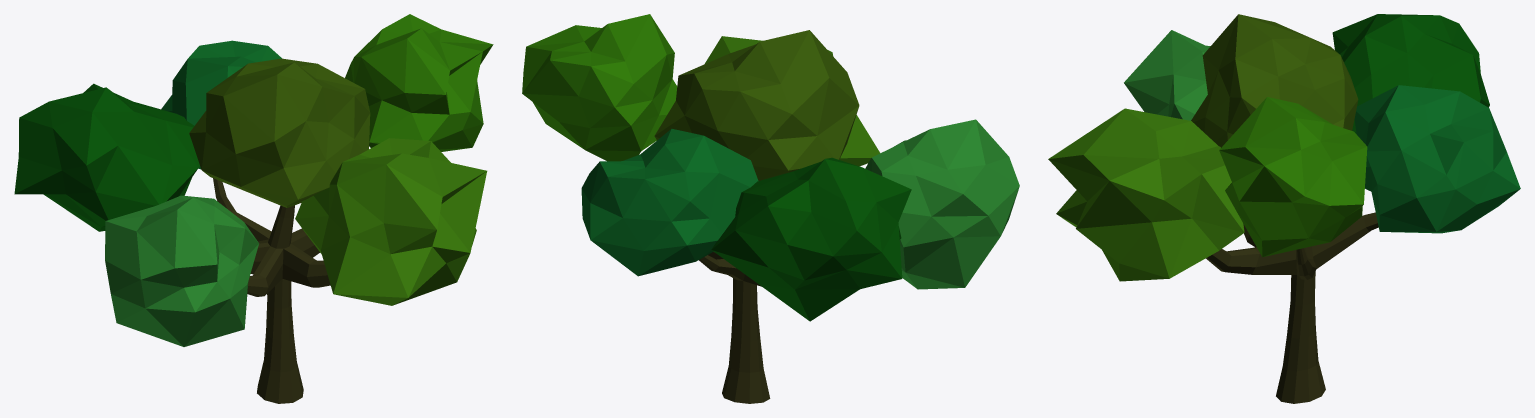
Rendered from arbol.fbx.
3 views of the same model, side by side, from view 1: azimuth 30°, elevation 25°; view 2: azimuth 150°, elevation 25°; view 3: azimuth 270°, elevation 25° (orthographic). The views are drawn at different scales.
Parts seen in each view (by area): view 1: Cylinder; view 2: Cylinder; view 3: Cylinder.
Boxes of the visible parts, x1,y1,x2,y2 form: Cylinder: (14,14,493,403); Cylinder: (522,14,1019,403); Cylinder: (1048,14,1520,403).
Bounding box in the file's own units: 4059 × 3188 × 3742.
